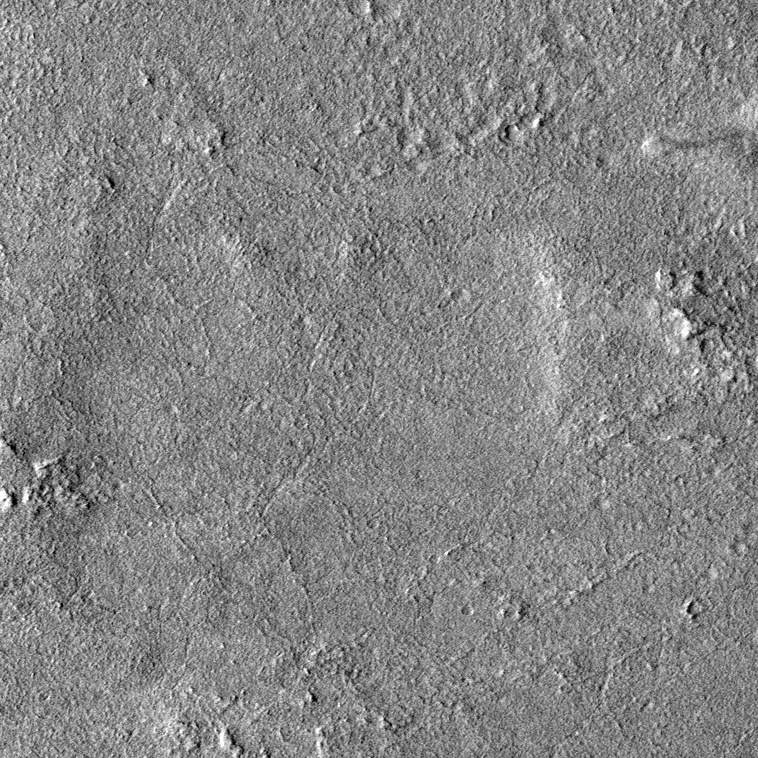dust_devil: (641, 131, 741, 161)
